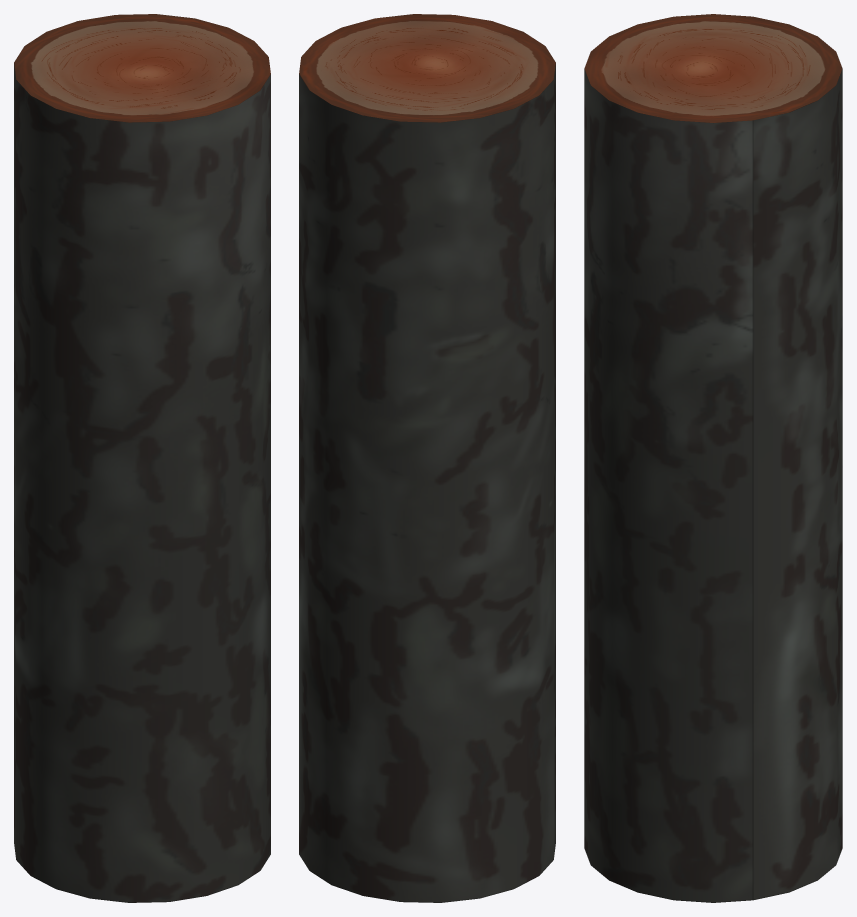
Rendered from TreeTrunk.fbx.
3 views of the same model, side by side, from view 1: azimuth 30°, elevation 25°; view 2: azimuth 150°, elevation 25°; view 3: azimuth 270°, elevation 25° (orthographic).
Visible parts, largest first — view 1: TreeTrunk; view 2: TreeTrunk; view 3: TreeTrunk.
Boxes of the visible parts, bbox=[...] form: TreeTrunk: bbox=[14, 14, 270, 902]; TreeTrunk: bbox=[299, 14, 555, 902]; TreeTrunk: bbox=[584, 14, 842, 902].
Size of the model in its own units: 6 by 20 by 6.
1 material, 1 textured.
